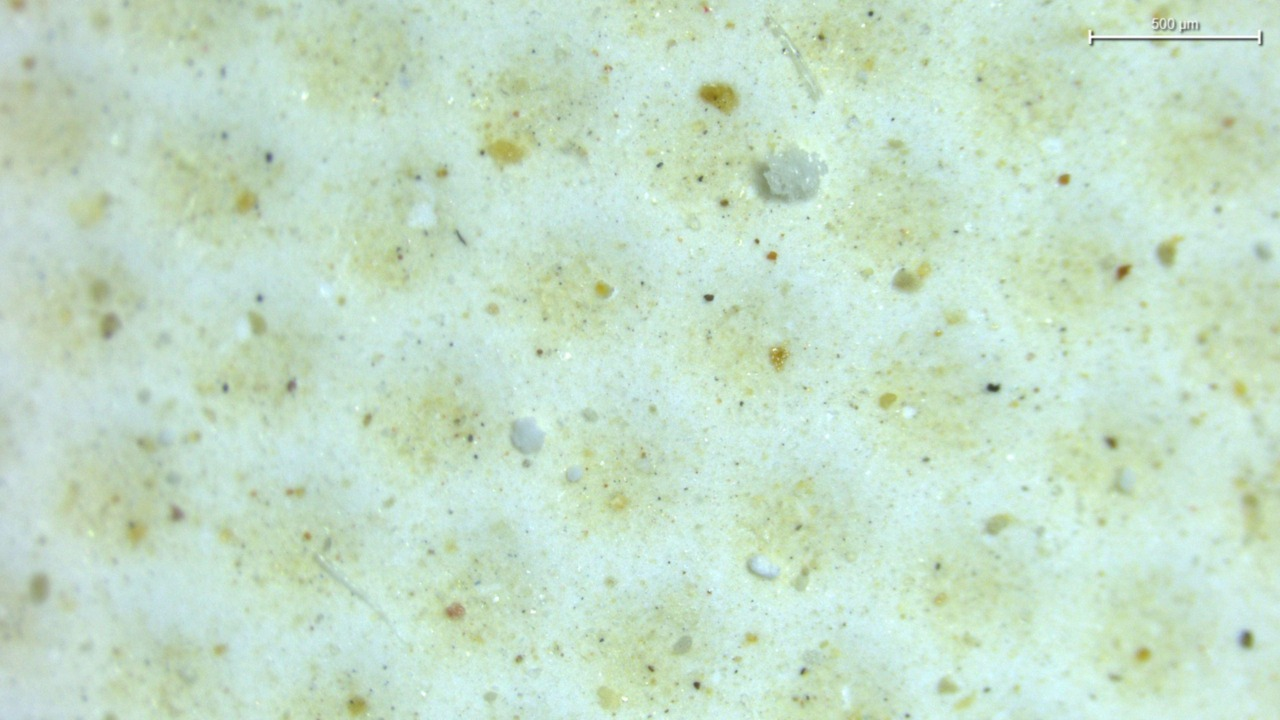microplastic_fragment: (763, 147, 825, 201), (511, 417, 545, 454)
